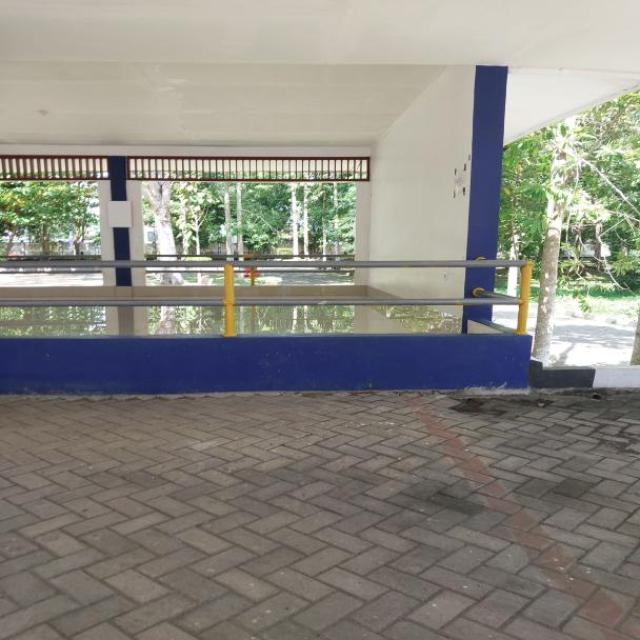barrier ahead at: (4, 269, 532, 389)
